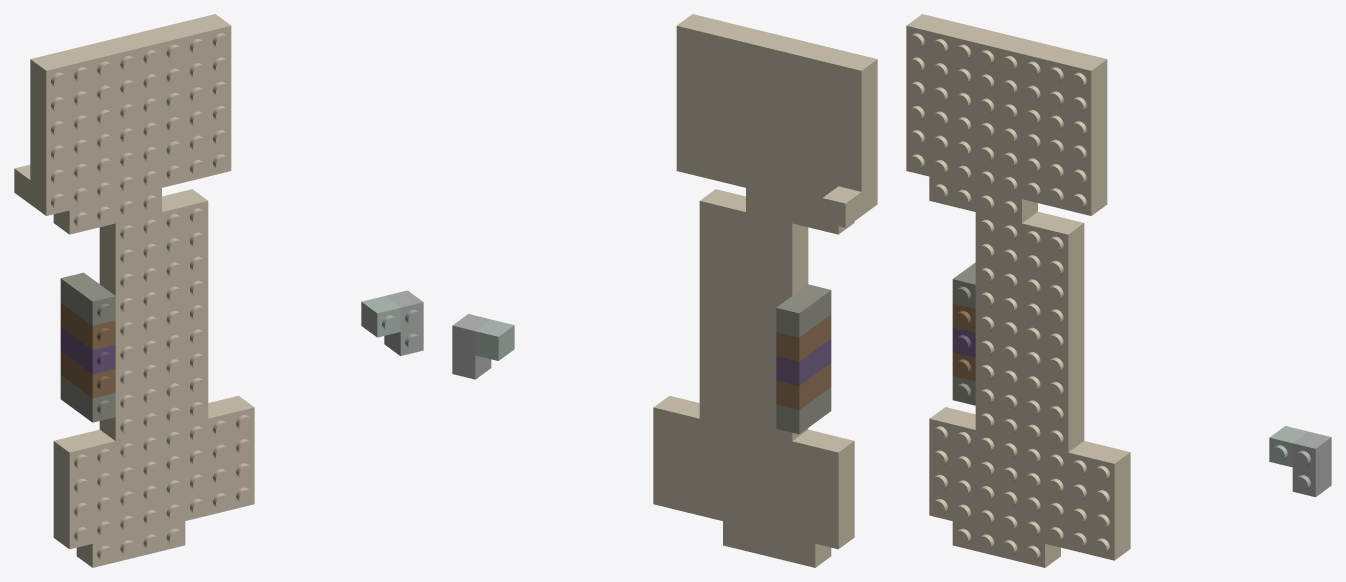
The model's file is full.glb.
3 views of the same model, side by side, from view 1: azimuth 30°, elevation 25°; view 2: azimuth 150°, elevation 25°; view 3: azimuth 330°, elevation 25° (orthographic).
Parts seen in each view (by area): view 1: world; view 2: world; view 3: world.
Boxes of the visible parts, left/top/right/bottom form: world: left=14, top=14, right=423, bottom=567; world: left=452, top=14, right=877, bottom=567; world: left=906, top=14, right=1331, bottom=567.
Size of the model in its own units: 136 by 168 by 21.
